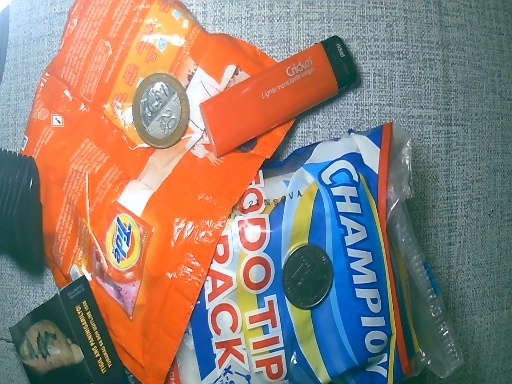cardboard: (7, 278, 127, 384)
metal: (133, 69, 189, 151), (282, 243, 334, 309)
plastic: (28, 1, 320, 384), (174, 123, 449, 384)
trash: (204, 35, 362, 156), (1, 138, 41, 246)
